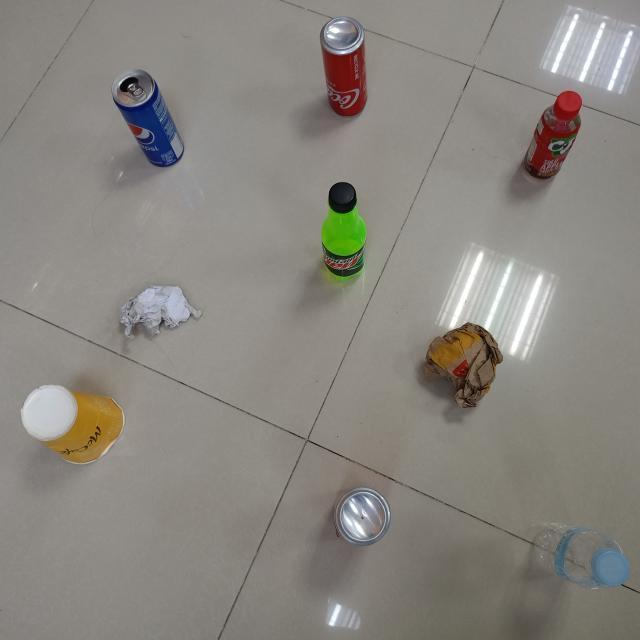recyclable waste: (522, 512, 634, 602), (15, 380, 128, 468), (106, 64, 188, 172), (418, 317, 507, 413), (518, 88, 591, 188), (315, 11, 374, 122), (316, 178, 370, 286), (114, 280, 205, 343), (328, 479, 395, 552)
